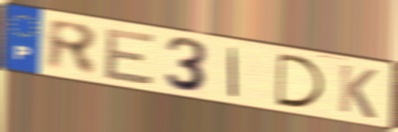3: (162, 36, 213, 95)
D: (275, 51, 328, 110)
E: (101, 26, 158, 87)
I: (227, 45, 240, 100)
K: (336, 62, 380, 122)
R: (45, 16, 100, 79)
